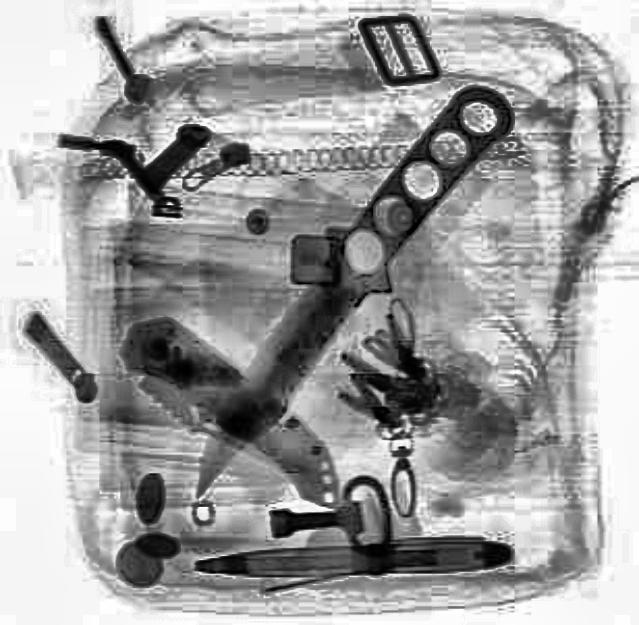Knife: (152, 72, 522, 504), (97, 302, 371, 522)
